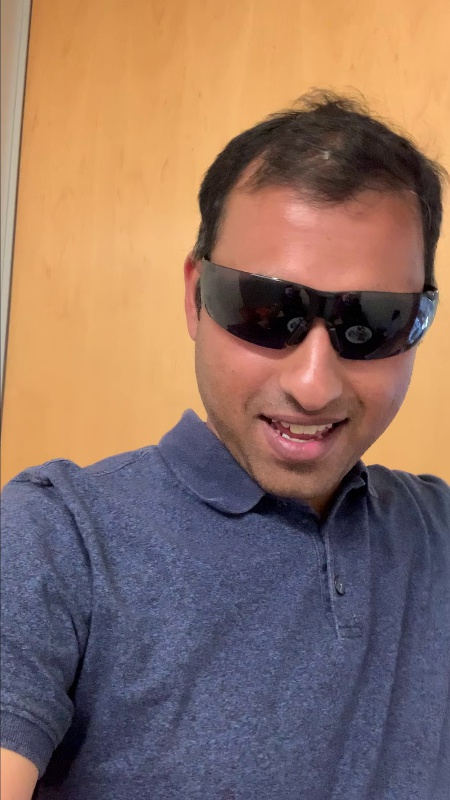glasses: (189, 247, 450, 370)
